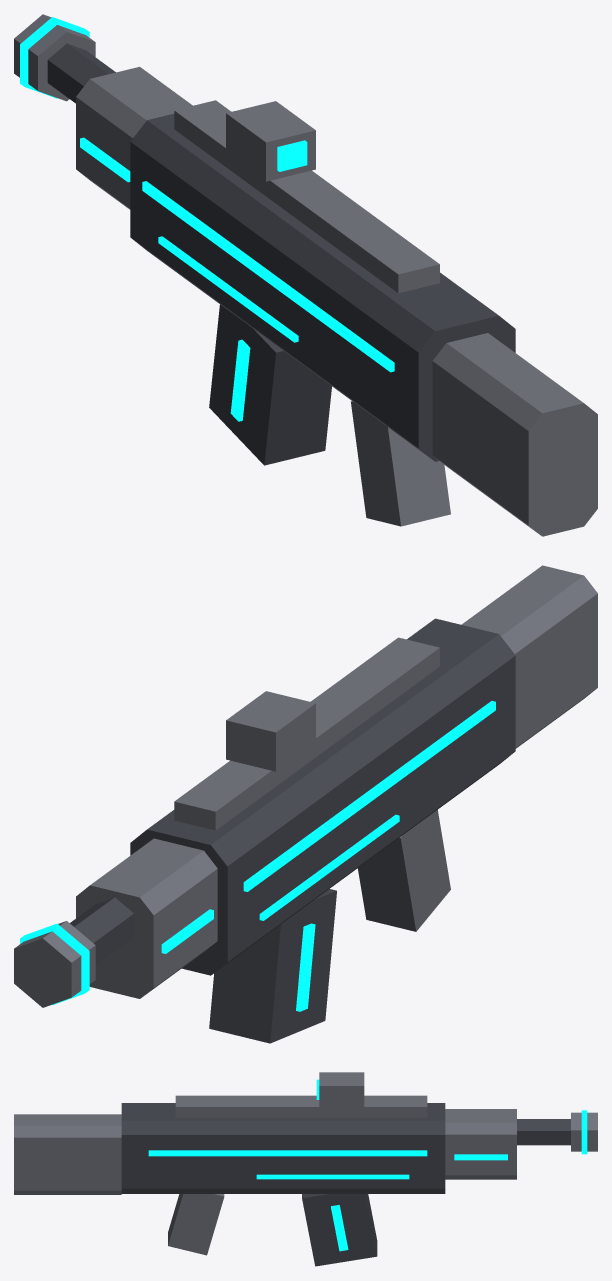
The model's file is rifle.glb.
3 views of the same model, one above another, from view 1: azimuth 30°, elevation 25°; view 2: azimuth 150°, elevation 25°; view 3: azimuth 270°, elevation 25° (orthographic). The views are drawn at different scales.
Parts seen in each view (by area): view 1: Rifle; view 2: Rifle; view 3: Rifle.
Boxes of the visible parts, left/top/right/bottom form: Rifle: left=14, top=14, right=597, bottom=536; Rifle: left=14, top=565, right=597, bottom=1043; Rifle: left=14, top=1072, right=597, bottom=1266.
Bounding box in the file's own units: 0.076 × 0.2198 × 0.65.
